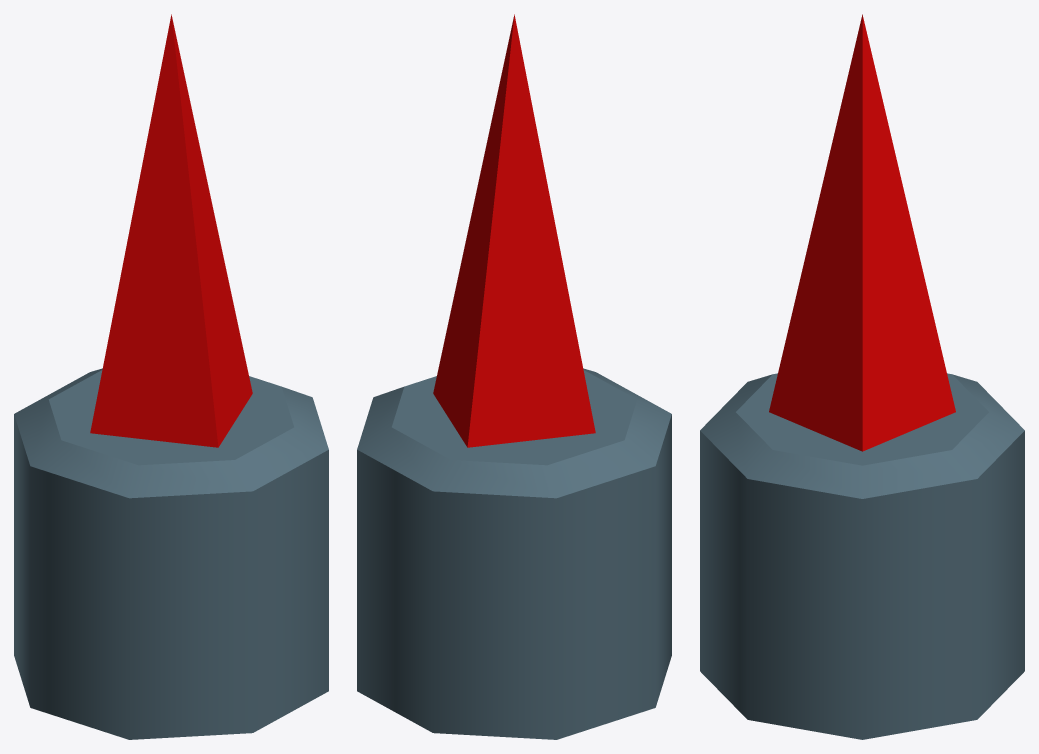
Rendered from trap_baytrong.fbx.
The picture shows the model from 3 angles, left to right: view 1: azimuth 30°, elevation 25°; view 2: azimuth 150°, elevation 25°; view 3: azimuth 270°, elevation 25°; orthographic projection.
Visible parts, largest first — view 1: de, gai; view 2: de, gai; view 3: de, gai.
Part boxes in pixels (bbox=[...]): de: bbox=[14, 368, 328, 739]; gai: bbox=[90, 14, 252, 447]; de: bbox=[357, 368, 671, 739]; gai: bbox=[433, 14, 595, 447]; de: bbox=[700, 373, 1024, 739]; gai: bbox=[769, 14, 955, 451].
Bounding box in the file's own units: 45.28 × 101 × 45.28.
